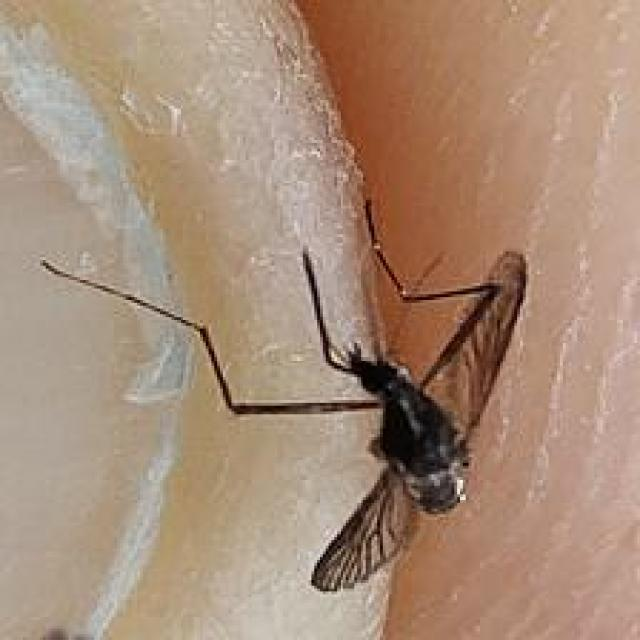Aedes albopictus: (40, 204, 529, 593)
